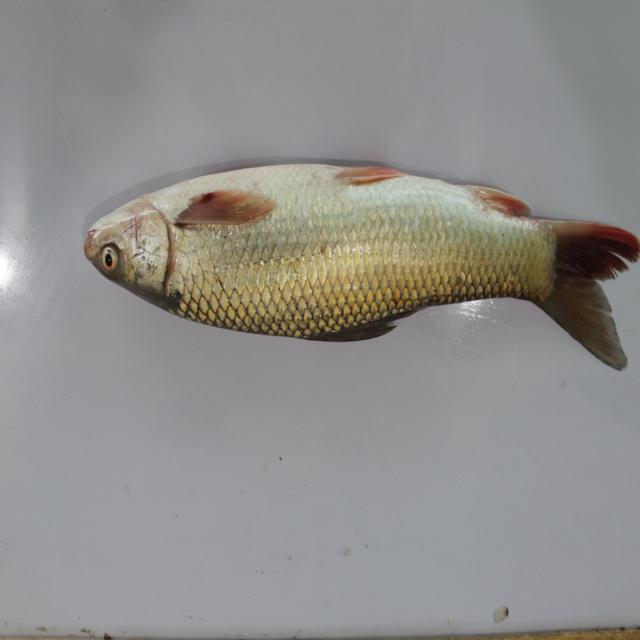Mori: (70, 134, 637, 379)
